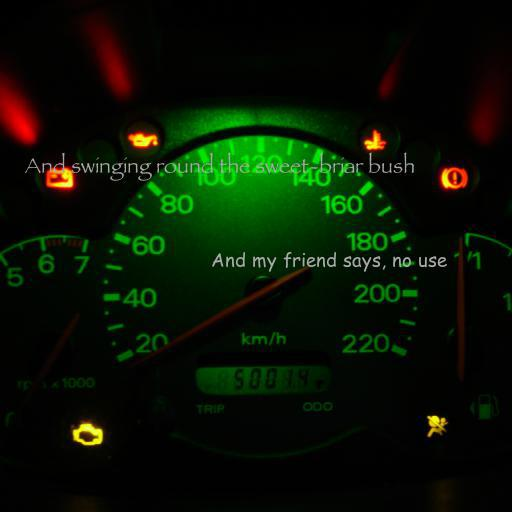Comic Sans MS: (211, 251, 447, 272)
Papyrus: (25, 152, 415, 181)
